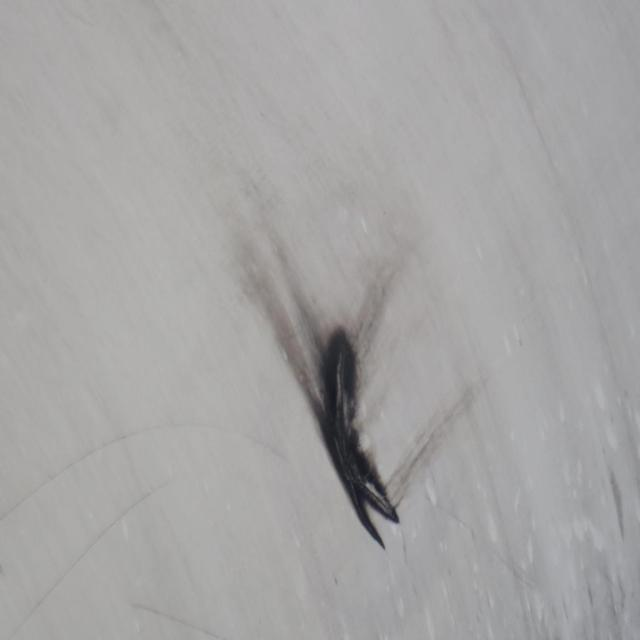crack: (272, 314, 408, 550)
